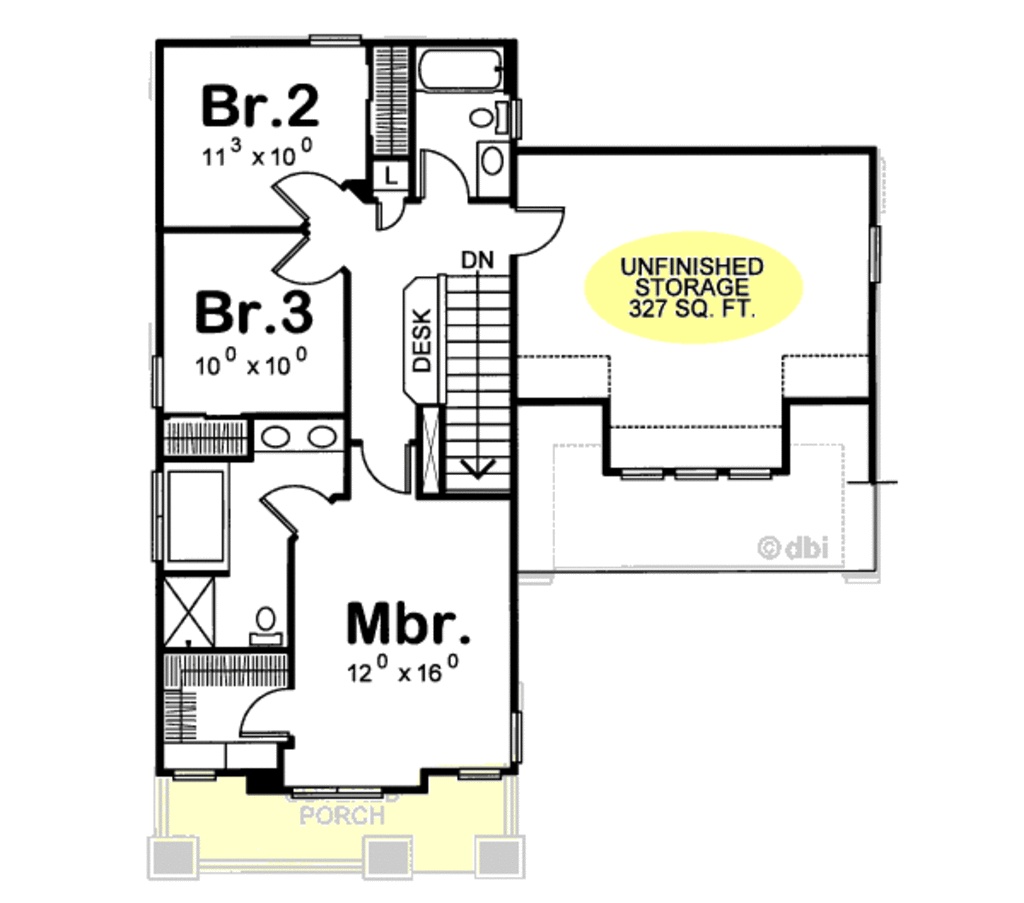door: (262, 227, 350, 300), (258, 163, 347, 223), (257, 482, 350, 535), (355, 439, 419, 502), (415, 146, 472, 205), (230, 688, 294, 737), (514, 205, 571, 255), (375, 193, 412, 234)
large_sink: (243, 595, 290, 655), (465, 95, 515, 137)
small_sink: (255, 417, 346, 450), (473, 139, 509, 200)
stairs: (441, 271, 518, 492)
tub: (162, 456, 233, 574), (402, 45, 516, 93)
window: (622, 462, 775, 484), (144, 345, 180, 416), (291, 781, 394, 802), (300, 20, 372, 50), (859, 221, 889, 287), (148, 464, 166, 564), (507, 713, 532, 767), (451, 762, 507, 784), (169, 760, 229, 780)
